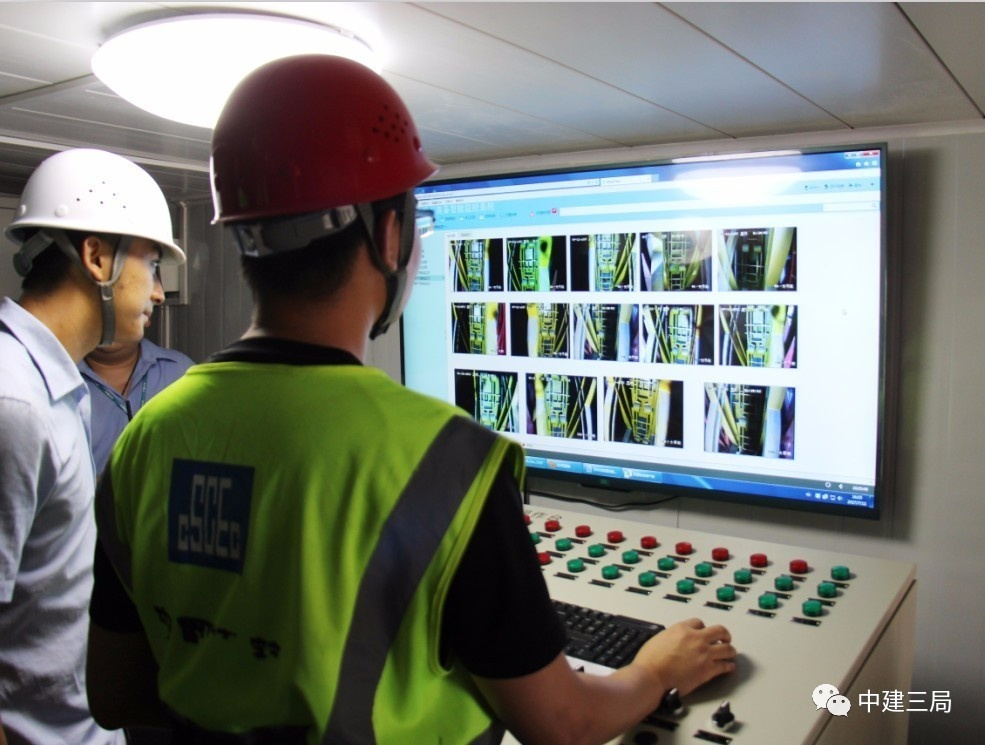red: (203, 48, 433, 345)
white: (14, 144, 174, 356)
